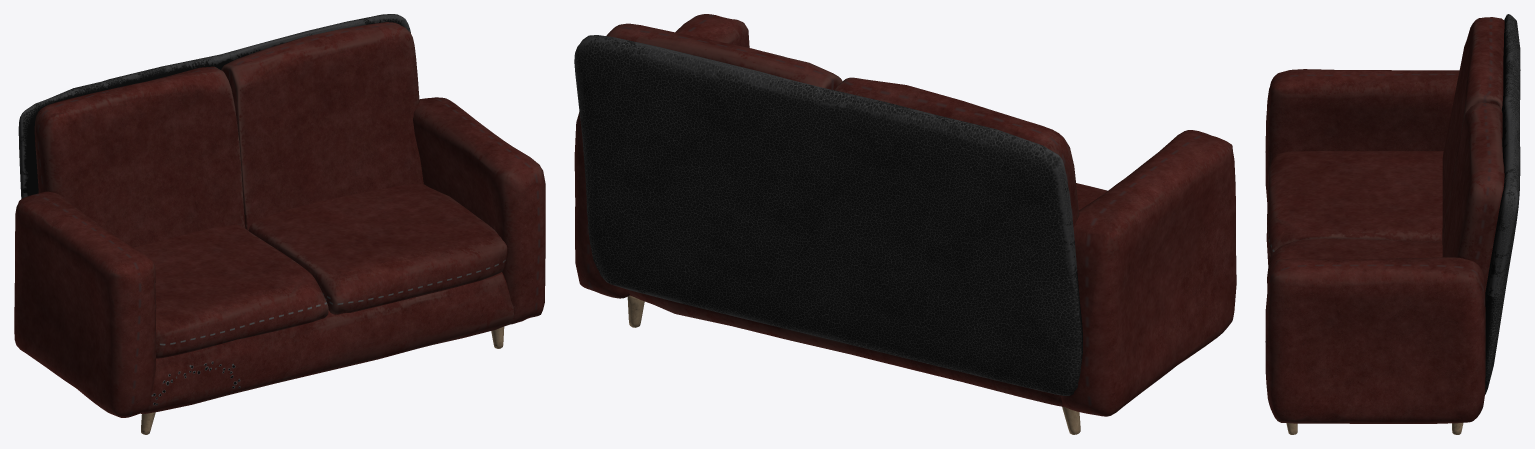
Rendered from sofa.glb.
The picture shows the model from 3 angles, left to right: view 1: azimuth 30°, elevation 25°; view 2: azimuth 150°, elevation 25°; view 3: azimuth 270°, elevation 25°; orthographic projection. The views are drawn at different scales.
Parts seen in each view (by area): view 1: SM_Sofa_0; view 2: SM_Sofa_0; view 3: SM_Sofa_0.
Boxes of the visible parts, x1=… form: SM_Sofa_0: x1=14, y1=14, x2=545, y2=434; SM_Sofa_0: x1=574, y1=14, x2=1236, y2=434; SM_Sofa_0: x1=1265, y1=14, x2=1520, y2=434.
Bounding box in the file's own units: 1.81 × 1.02 × 0.9244.
Materials: 6 (6 with a texture image).
